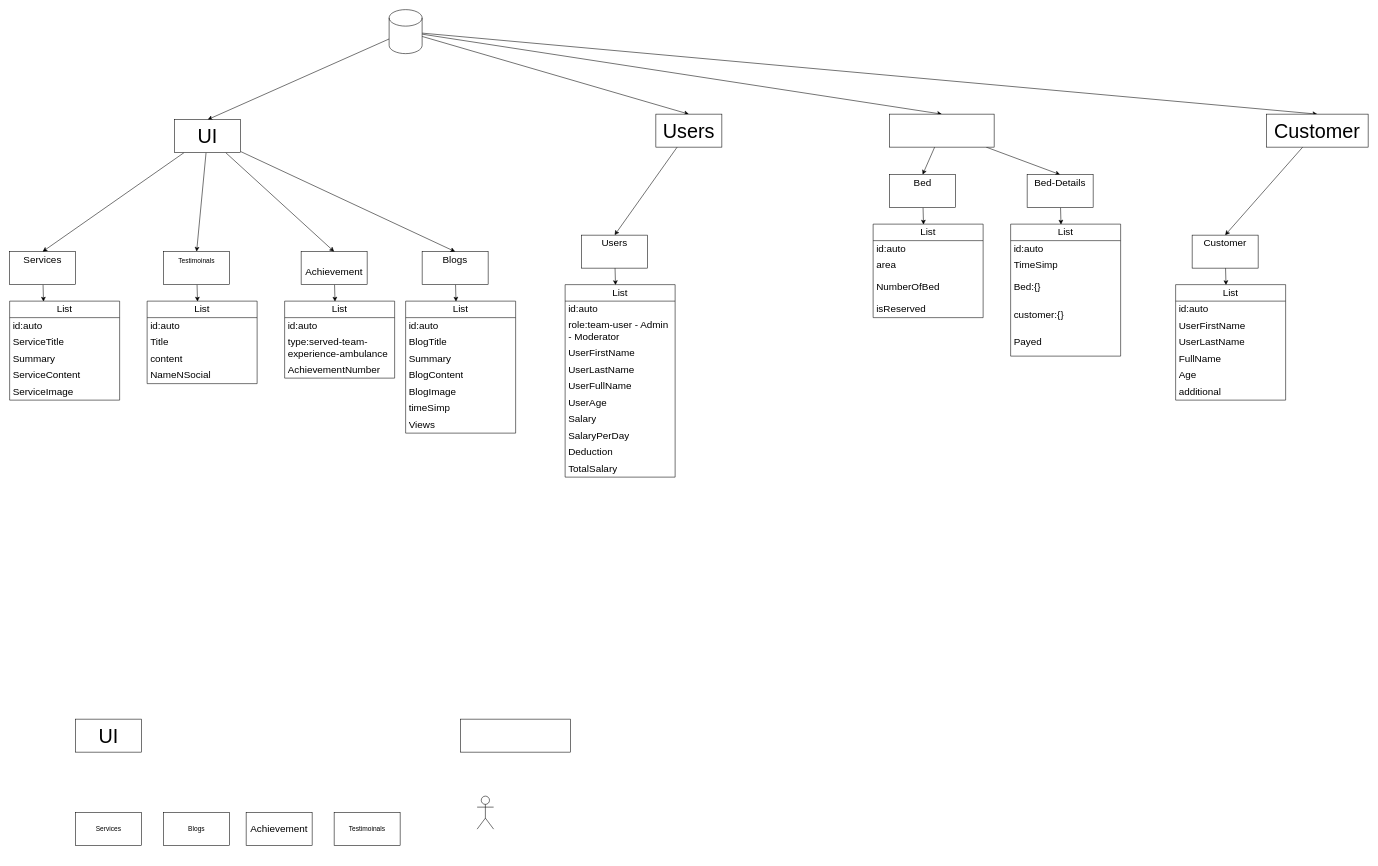
Image size: 1378x866. Some labels were removed from this diagram. Here are the shapes that lost their labels. From the top down, the centre of each, then its label:
At [941,130]: "Care beds".
At [515,735]: "Team-User".
At [485,812]: "hamada".
